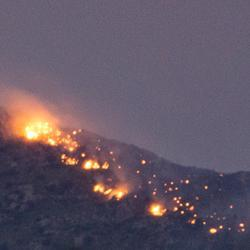fire: (23, 119, 48, 139)
